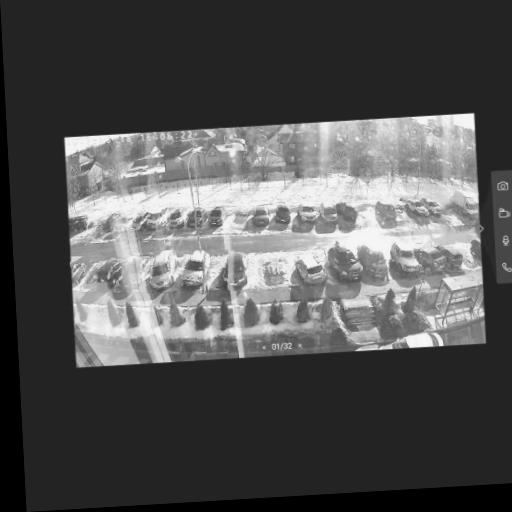busy: (326, 241, 365, 285), (178, 249, 211, 295), (355, 241, 392, 282), (146, 251, 182, 293), (294, 251, 333, 288), (387, 240, 423, 279), (94, 254, 129, 292), (219, 249, 249, 293), (412, 239, 447, 275), (121, 255, 152, 295), (383, 330, 445, 349), (451, 189, 480, 225), (435, 241, 466, 273), (403, 193, 431, 221), (92, 211, 124, 232), (164, 207, 194, 229), (375, 198, 398, 222), (184, 206, 206, 231), (205, 205, 227, 230), (113, 212, 141, 231), (128, 210, 154, 230), (273, 200, 293, 226), (144, 209, 171, 228), (297, 203, 319, 226), (337, 202, 359, 225), (251, 204, 272, 228), (319, 202, 344, 222), (71, 260, 88, 287), (424, 198, 442, 218)
free: (256, 249, 289, 291), (454, 242, 479, 270), (81, 260, 102, 289), (355, 200, 375, 225), (230, 208, 249, 234), (441, 196, 459, 222), (392, 202, 412, 224), (88, 216, 106, 240)
